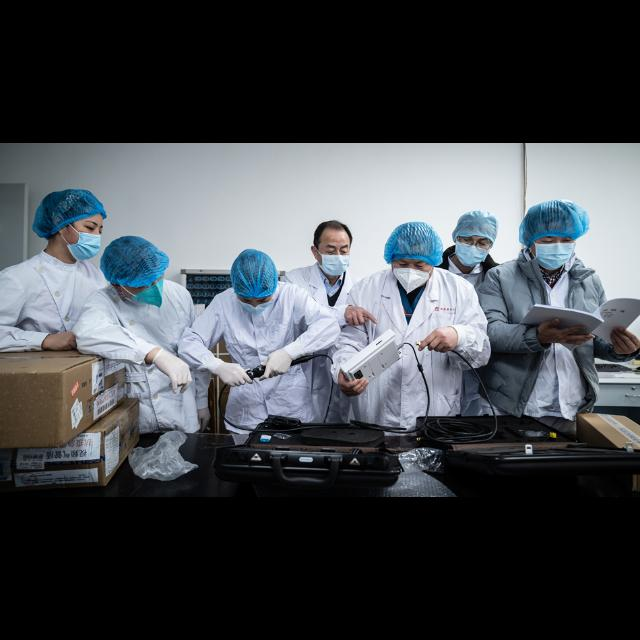masks: (121, 278, 180, 310), (58, 224, 104, 264), (530, 241, 580, 275), (390, 265, 432, 295), (452, 240, 490, 272), (314, 248, 350, 280)
